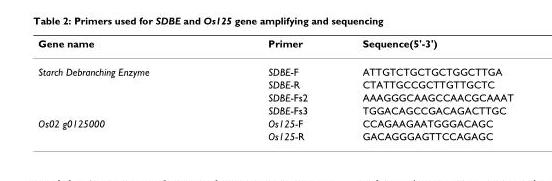table: (37, 36, 512, 141)
table column: (334, 36, 512, 141), (37, 36, 207, 141), (207, 36, 334, 141)
table column header: (37, 36, 512, 57)
table row: (37, 36, 512, 57), (37, 57, 512, 77), (37, 77, 512, 90), (37, 90, 512, 103), (37, 103, 512, 116), (37, 116, 512, 129), (37, 129, 512, 141)
table spanning cell: (37, 57, 207, 116), (37, 116, 207, 141)
